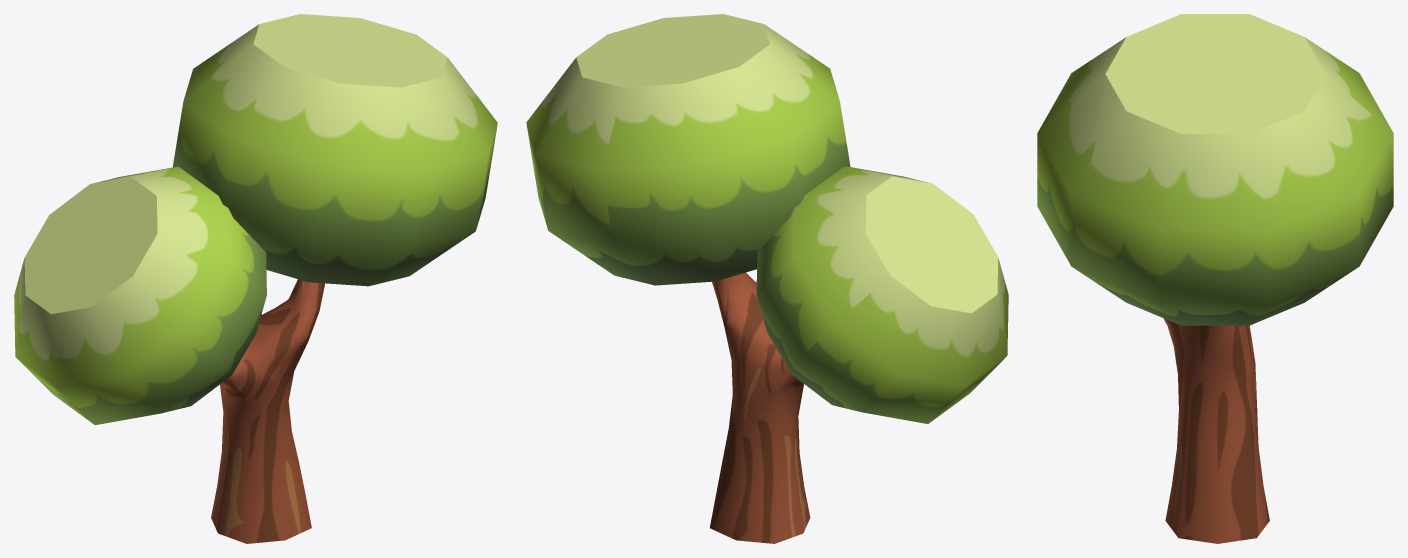
File: arvore02.FBX
3 views of the same model, side by side, from view 1: azimuth 30°, elevation 25°; view 2: azimuth 150°, elevation 25°; view 3: azimuth 270°, elevation 25° (orthographic). The views are drawn at different scales.
Visible parts, largest first — view 1: folhasArvore003, folhasArvore004, troncoArvore02; view 2: folhasArvore003, folhasArvore004, troncoArvore02; view 3: folhasArvore003, troncoArvore02.
Boxes of the visible parts, box(x1,y1,x2,y2) form: folhasArvore003: box(172, 14, 497, 286); folhasArvore004: box(14, 166, 266, 425); troncoArvore02: box(211, 279, 324, 543); folhasArvore003: box(526, 14, 850, 285); folhasArvore004: box(756, 166, 1008, 423); troncoArvore02: box(710, 272, 810, 543); folhasArvore003: box(1037, 14, 1393, 325); troncoArvore02: box(1163, 318, 1269, 543).
Size of the model in its own units: 220 by 224 by 142.
